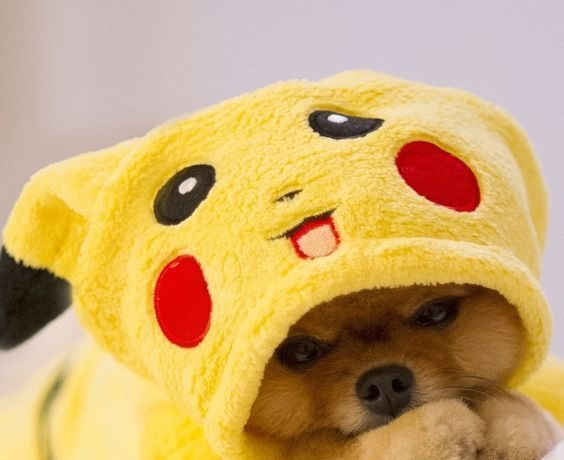dog: (84, 75, 564, 456)
